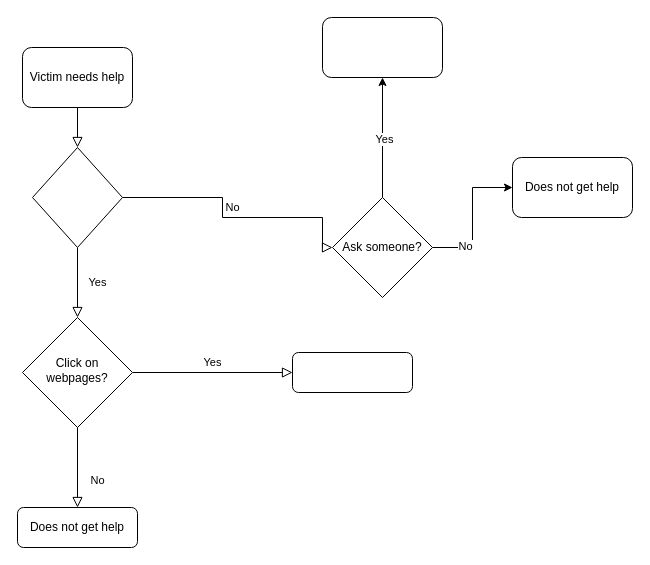
Image size: 650x565. Some labels were removed from this diagram. Here are the shapes that lost their labels. From the top down, the box of each, then its label:
(322, 16, 442, 78): Wait for information, maybe successful
(32, 146, 122, 248): Search google?
(292, 352, 412, 392): Sort through webpages, maybe successful
